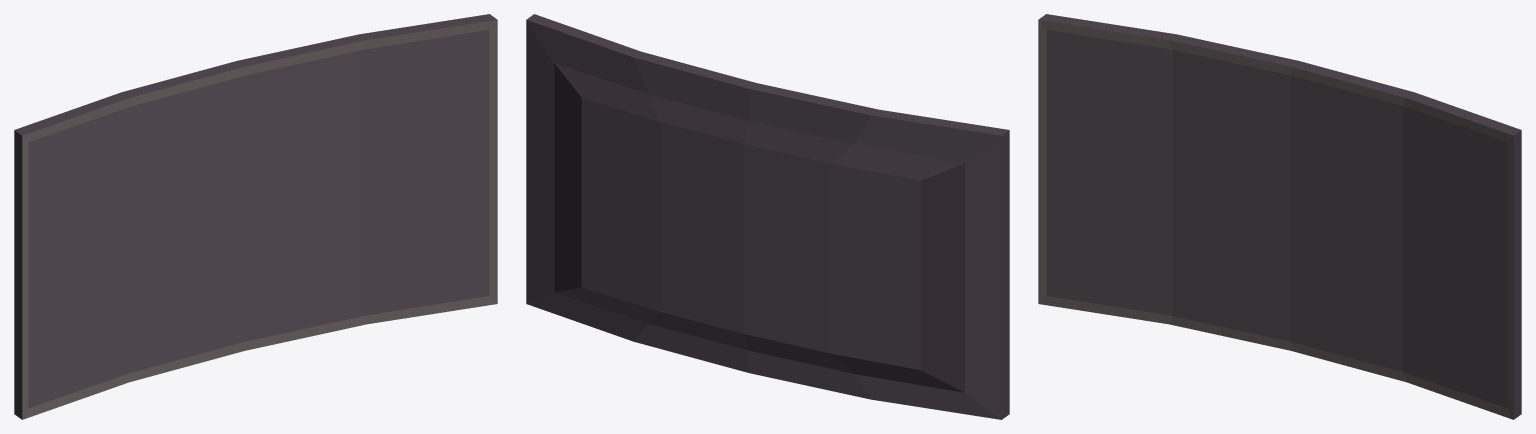
File: Curved TV.fbx
3 renders of one model, left to right at view 1: azimuth 30°, elevation 25°; view 2: azimuth 150°, elevation 25°; view 3: azimuth 330°, elevation 25°, orthographic.
Visible parts, largest first — view 1: Curved TV; view 2: Curved TV; view 3: Curved TV.
Part boxes in pixels (left/top/right/bottom): Curved TV: left=14, top=14, right=497, bottom=419; Curved TV: left=526, top=14, right=1009, bottom=419; Curved TV: left=1038, top=14, right=1521, bottom=419.
Size of the model in its own units: 353 by 201 by 35.43.
